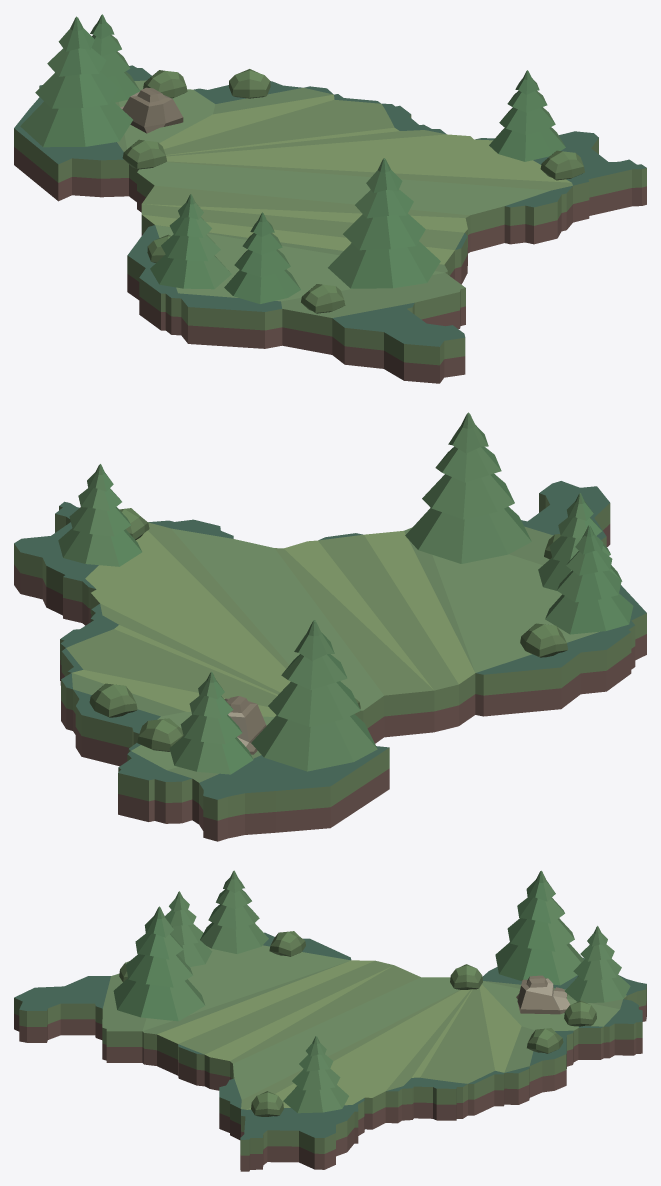
The model's file is batagai.gltf.
3 renders of one model, top to bottom at view 1: azimuth 30°, elevation 25°; view 2: azimuth 150°, elevation 25°; view 3: azimuth 270°, elevation 25°, orthographic. The views are drawn at different scales.
Visible parts, largest first — view 1: батагай; view 2: батагай; view 3: батагай.
Part boxes in pixels (box(x1,y1,x2,y2)): батагай: box(14, 14, 646, 383); батагай: box(14, 412, 646, 841); батагай: box(14, 870, 646, 1171).
Size of the model in its own units: 2.19 by 0.6645 by 2.82.
